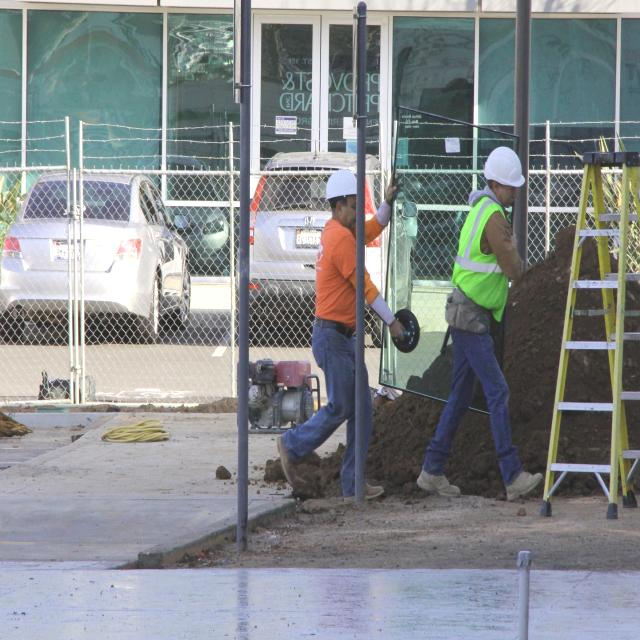face_nomask: (337, 194, 368, 235), (496, 181, 520, 208)
hand_noglove: (383, 163, 408, 205), (388, 316, 408, 352)
head_helmet: (483, 144, 526, 187), (324, 166, 358, 199)
person: (419, 140, 542, 500), (305, 167, 406, 490)
shoes: (273, 426, 310, 490), (415, 460, 461, 500), (503, 465, 545, 505)
vest: (452, 199, 515, 315)
